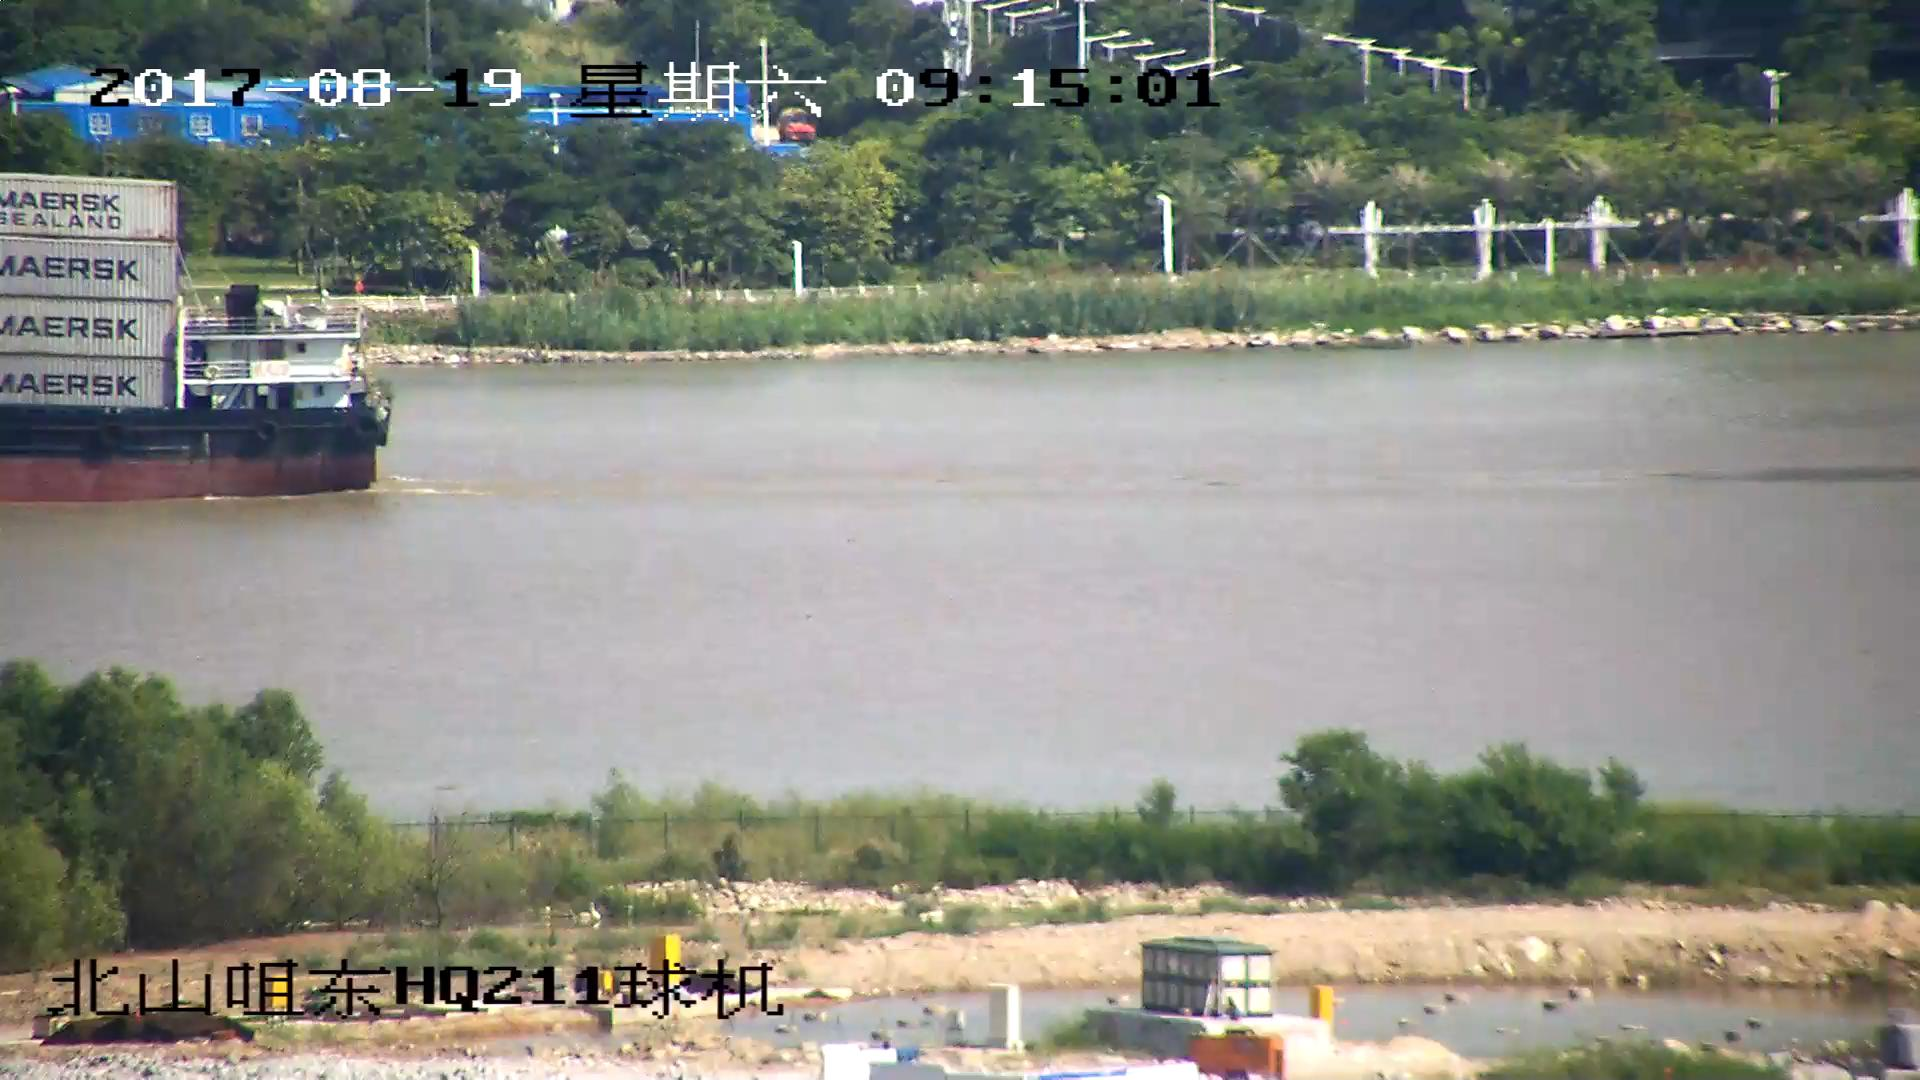container ship: (1, 173, 388, 502)
